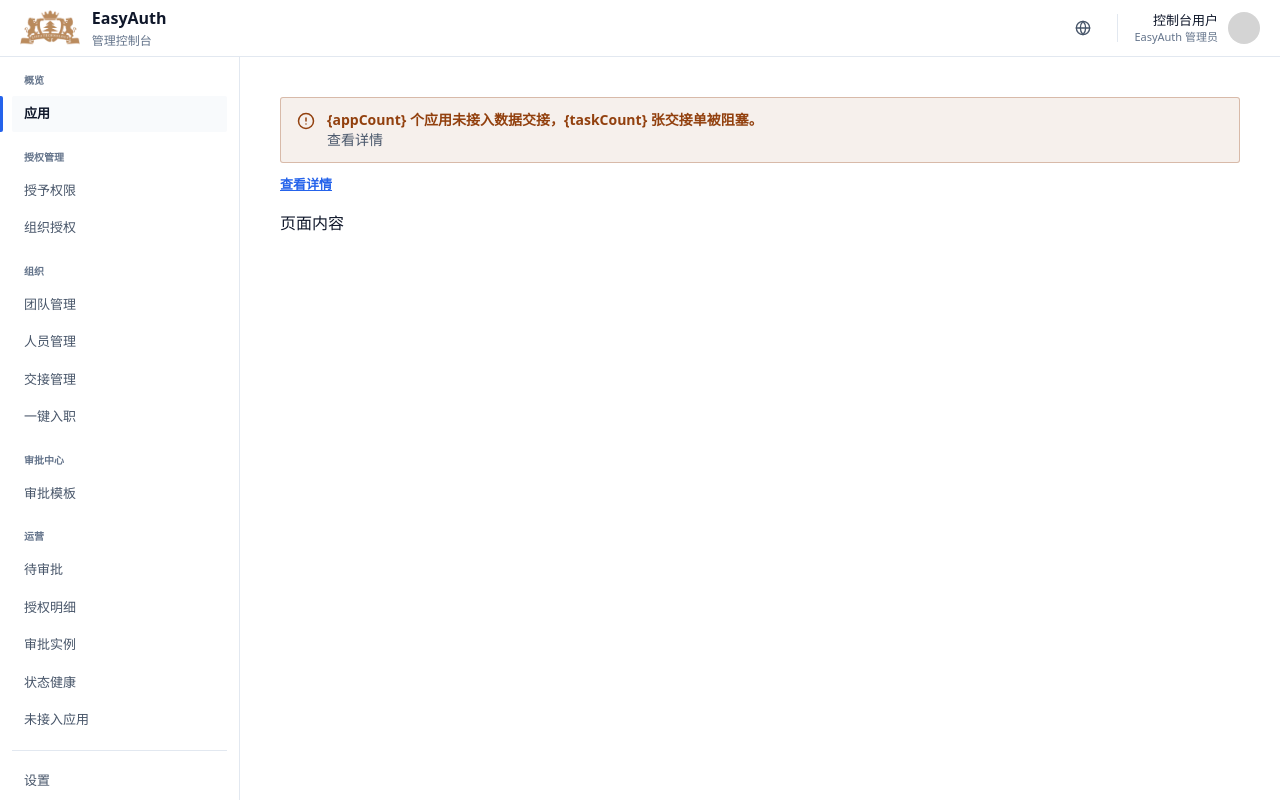
Test: AppShell › 语言菜单可切换界面语言
This screenshot has width=1280, height=800.
Click the button named "切换语言" at (1083, 28), box [1065,10,1101,46]
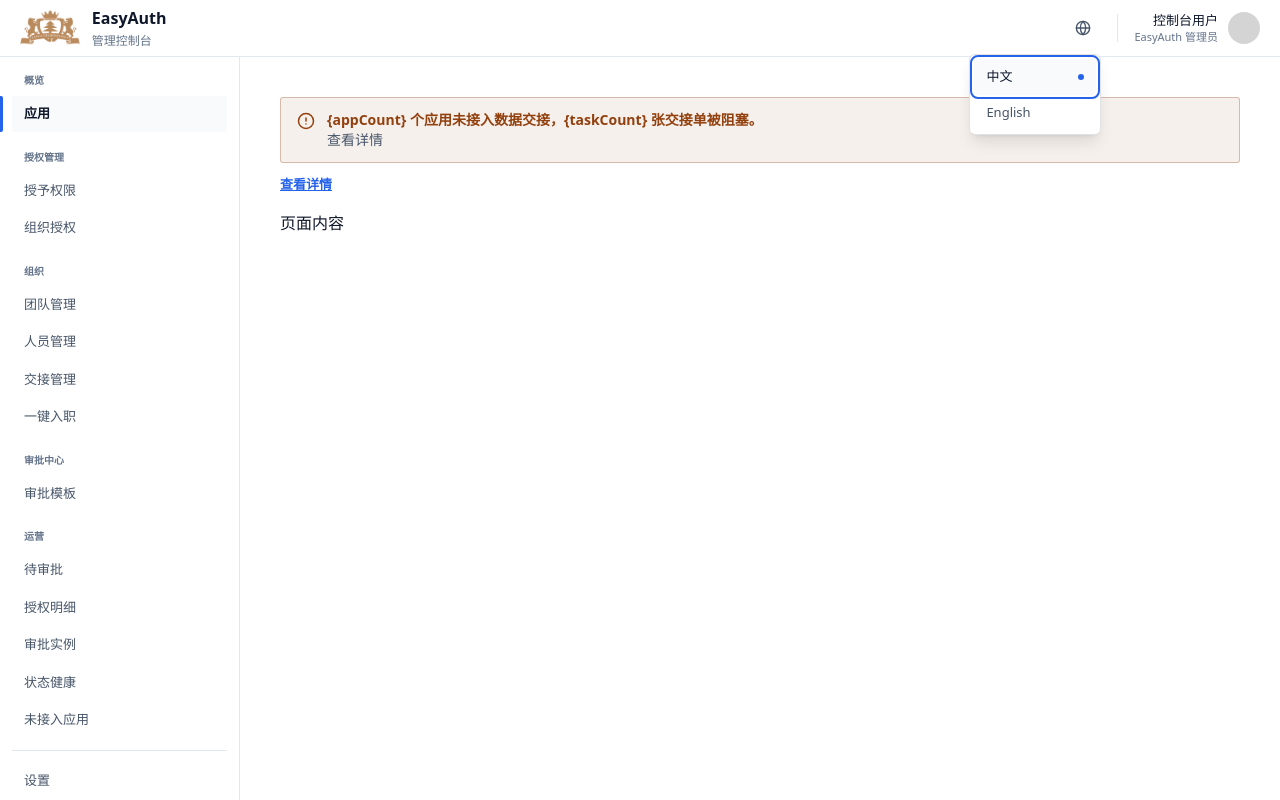
Now the menu with test id "topbar-language-menu" is shown, box [969,54,1101,135]
Click the menu item "English" at (1035, 112), box [974,94,1096,130]
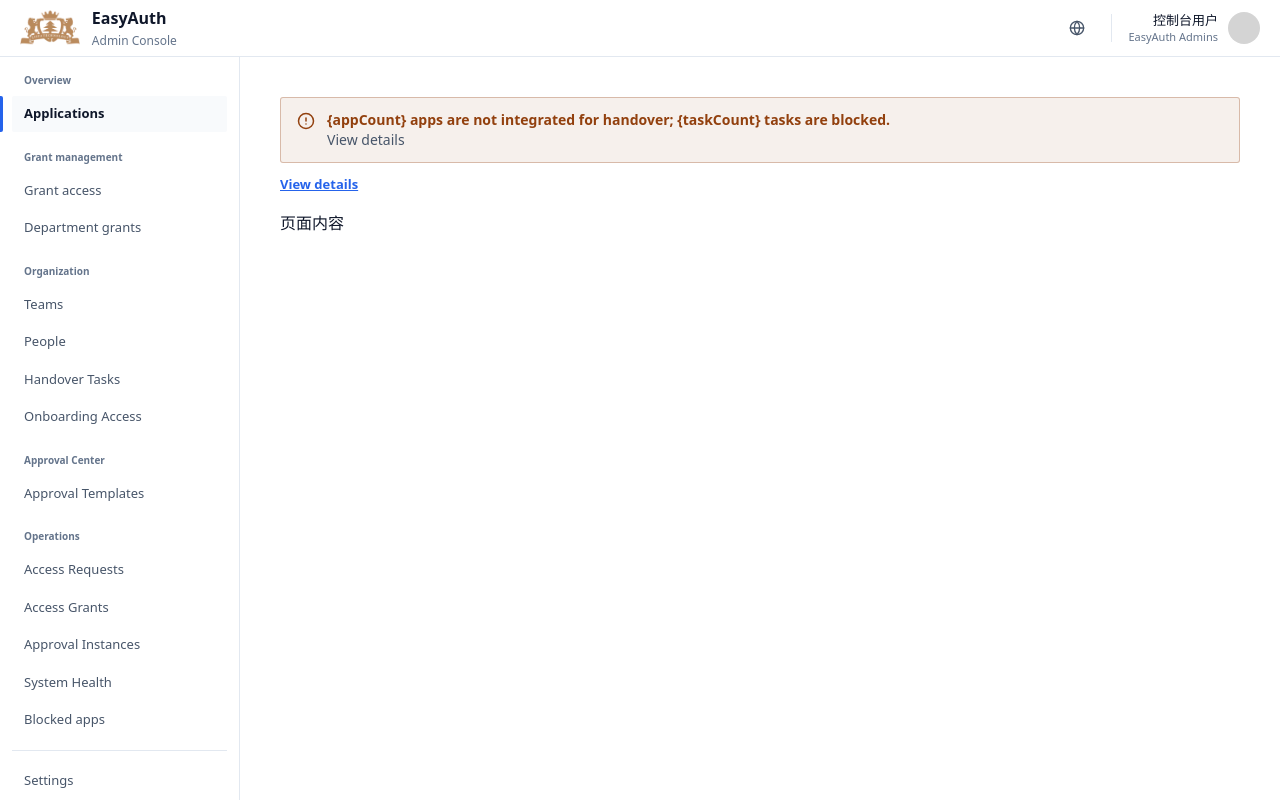
Now the menu with test id "topbar-language-menu" is gone
Now the button named "Switch language" is shown, box [1059,10,1095,46]
